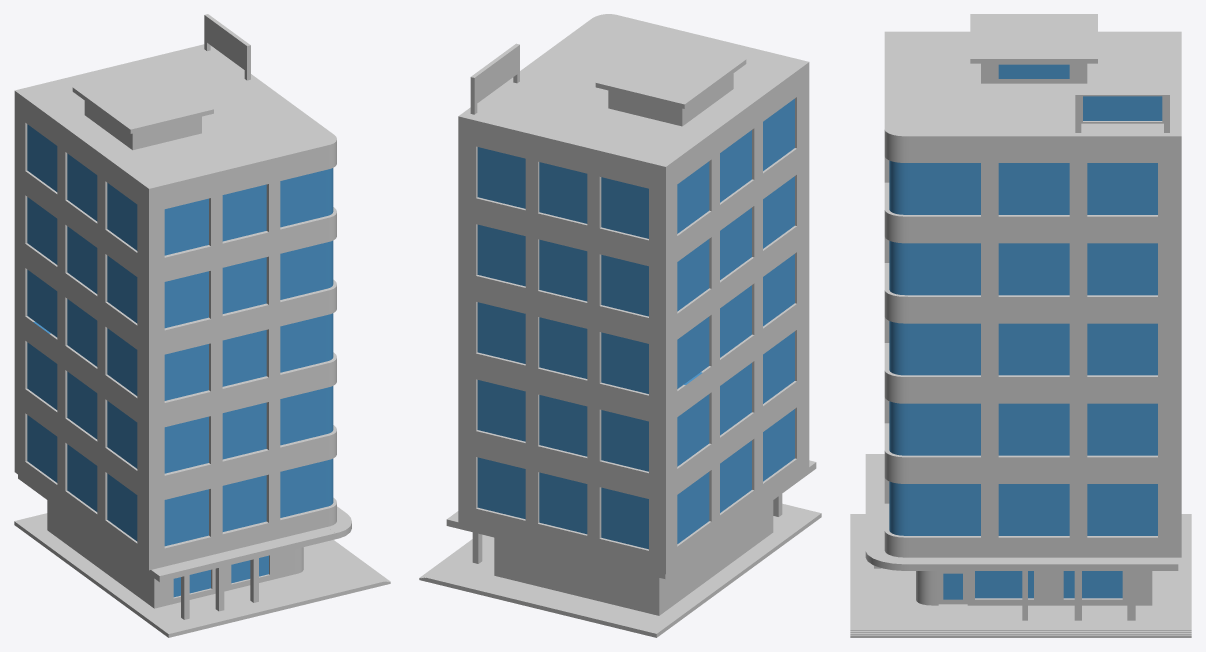
File: business_center.fbx
3 renders of one model, left to right at view 1: azimuth 30°, elevation 25°; view 2: azimuth 150°, elevation 25°; view 3: azimuth 270°, elevation 25°, orthographic. The views are drawn at different scales.
Visible parts, largest first — view 1: business_center; view 2: business_center; view 3: business_center.
Boxes of the visible parts, x1,y1,x2,y2 form: business_center: (14, 14, 390, 637); business_center: (419, 14, 821, 637); business_center: (850, 14, 1191, 637).
Bounding box in the file's own units: 1100 × 2198 × 1300.
